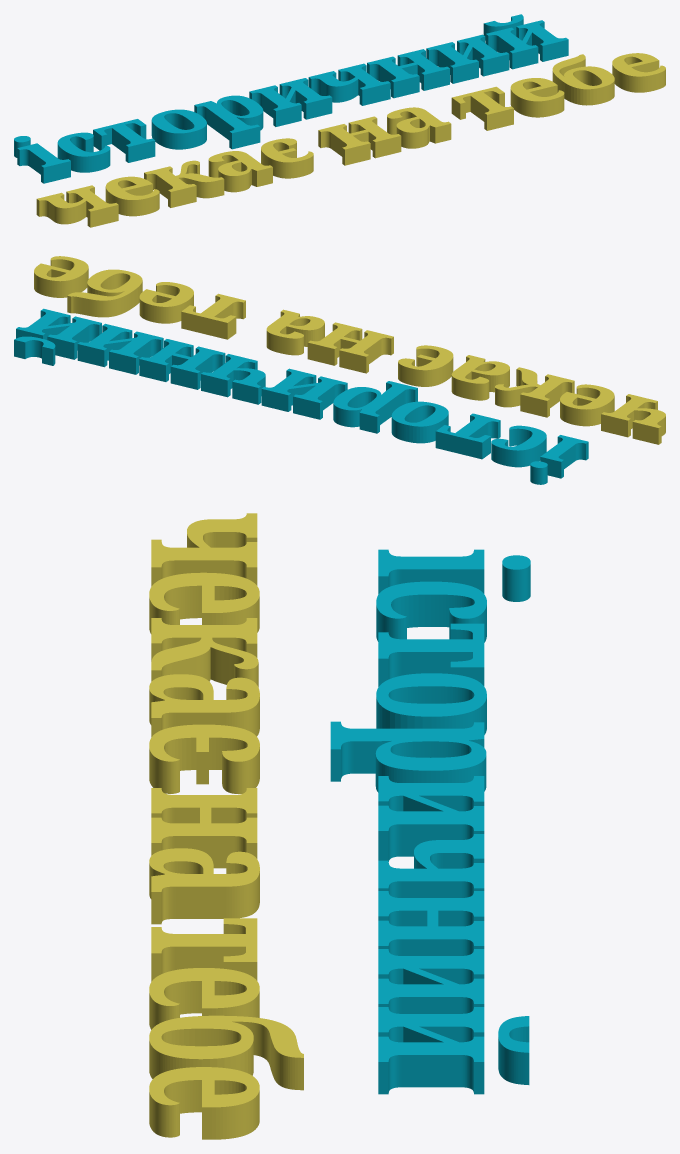
The model's file is 1_istfac_wait.glb.
3 renders of one model, top to bottom at view 1: azimuth 30°, elevation 25°; view 2: azimuth 150°, elevation 25°; view 3: azimuth 270°, elevation 25°, orthographic. The views are drawn at different scales.
Visible parts, largest first — view 1: Mesh_Mesh_head_geo.001_lambert2SG.001; view 2: Mesh_Mesh_head_geo.001_lambert2SG.001; view 3: Mesh_Mesh_head_geo.001_lambert2SG.001.
Part boxes in pixels (bbox=[...]): Mesh_Mesh_head_geo.001_lambert2SG.001: bbox=[14, 14, 665, 227]; Mesh_Mesh_head_geo.001_lambert2SG.001: bbox=[14, 256, 665, 484]; Mesh_Mesh_head_geo.001_lambert2SG.001: bbox=[149, 513, 530, 1139].
Bounding box in the file's own units: 197 × 5 × 53.47.
